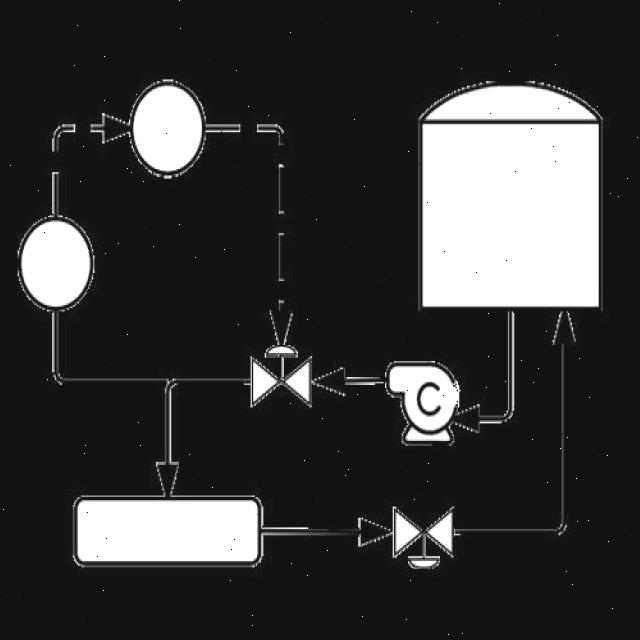Centrifugal Pump: (374, 351, 467, 453)
Pneumatic-Diaphragm Gate Valve: (389, 504, 461, 580), (247, 342, 312, 412)
